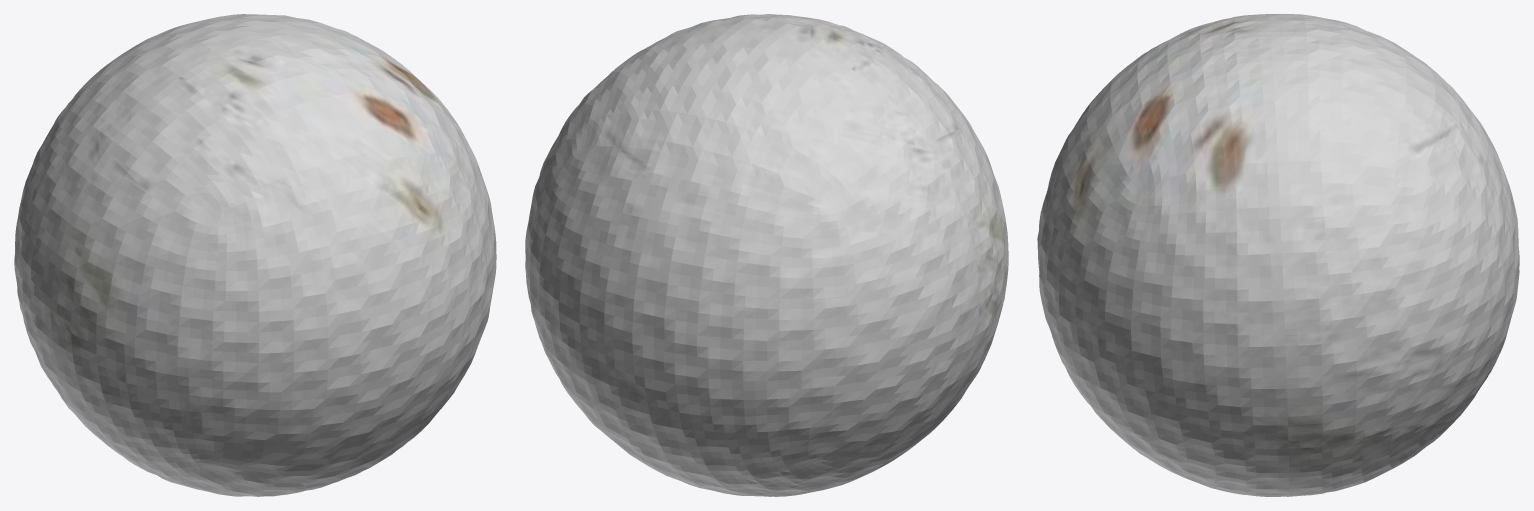
The picture shows the model from 3 angles, left to right: view 1: azimuth 30°, elevation 25°; view 2: azimuth 150°, elevation 25°; view 3: azimuth 270°, elevation 25°; orthographic projection.
Parts seen in each view (by area): view 1: part_00; view 2: part_00; view 3: part_00.
Boxes of the visible parts, left/top/right/bottom form: part_00: left=14, top=14, right=496, bottom=496; part_00: left=525, top=14, right=1008, bottom=496; part_00: left=1037, top=14, right=1519, bottom=496.
Bounding box in the file's own units: 0.0426 × 0.0427 × 0.0426.
1 material, 1 textured.
